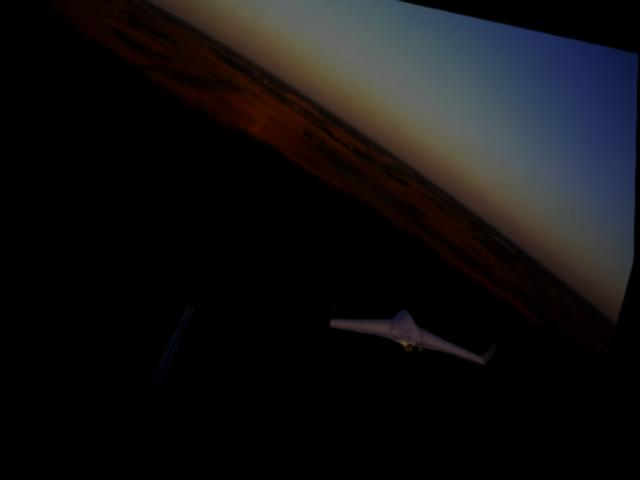plane: (324, 291, 504, 378)
